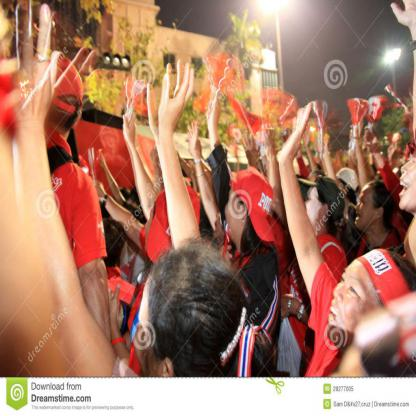face: (328, 265, 383, 338), (355, 188, 380, 229), (226, 189, 247, 237), (400, 153, 416, 212), (306, 188, 326, 231), (389, 137, 401, 162)
